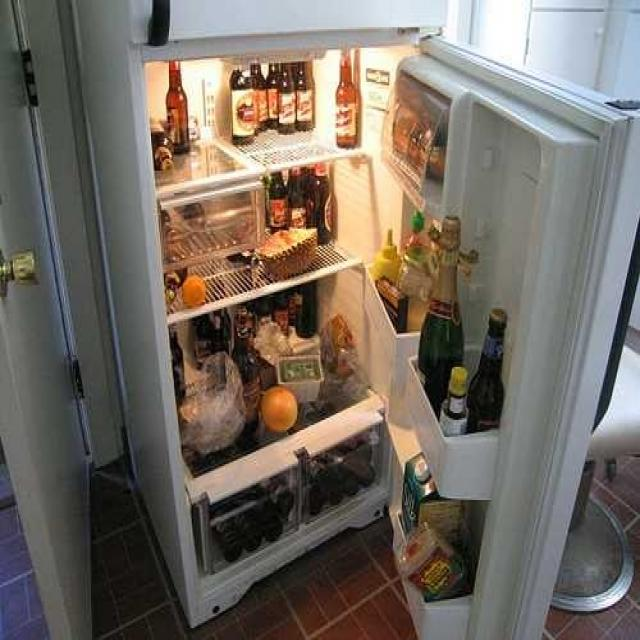refrigerator: (122, 0, 581, 640)
